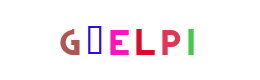8: (75, 0, 155, 80)
E: (77, 0, 157, 80)
G: (54, 0, 134, 80)
I: (150, 0, 230, 80)
L: (86, 0, 166, 80)
P: (90, 0, 170, 80)
